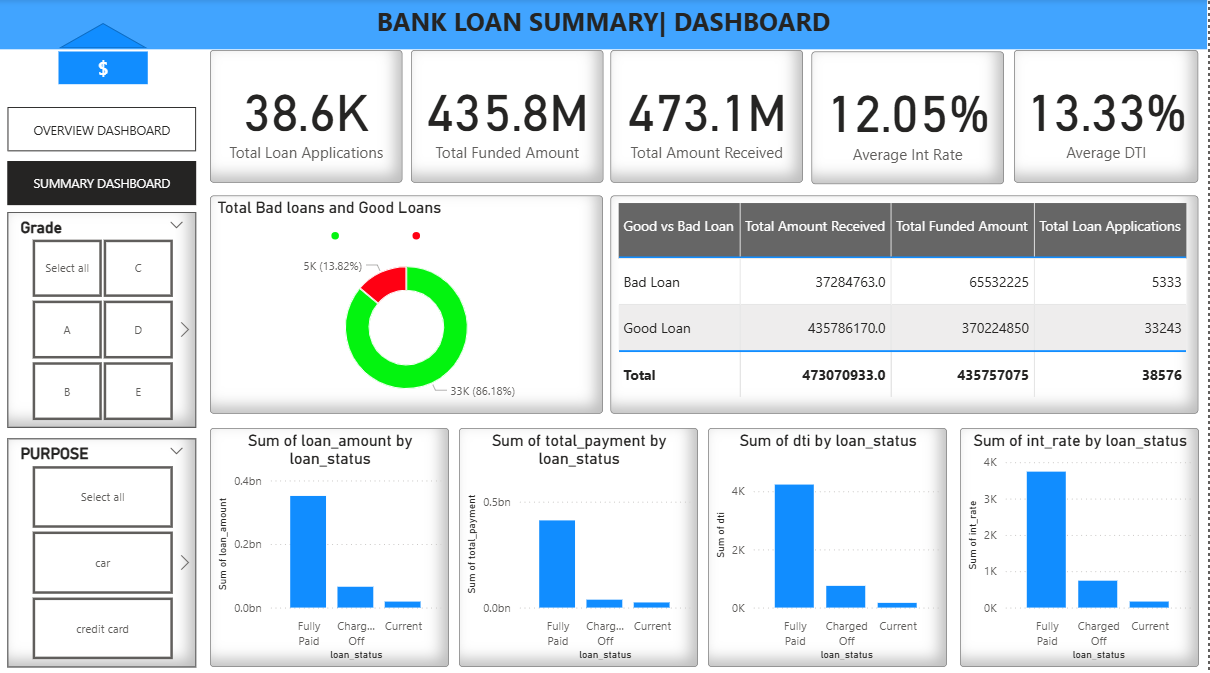

The dashboard page shown, as its layout file describes it:
{"tool":"powerbi","page":{"name":"SUMMARY DASHBOARD","canvas":[1280,720],"ordinal":1},"visuals":[{"type":"card","fields":{"Values":["financial_loan.Total Loan Applications"]},"box":[222.5,53.7,204.2,140.6],"z":0},{"type":"card","fields":{"Values":["financial_loan.Total Funded Amount"]},"box":[435.2,53.7,204.2,140.6],"z":1000},{"type":"card","fields":{"Values":["financial_loan.Total Amount Received"]},"box":[648,53.7,204.2,140.6],"z":2000},{"type":"card","fields":{"Values":["financial_loan.Average Int Rate"]},"box":[860.8,54.9,204.2,140.6],"z":3000},{"type":"card","fields":{"Values":["financial_loan.Average DTI"]},"box":[1076,53.7,195.7,140.6],"z":4000},{"type":"clusteredColumnChart","fields":{"Category":["financial_loan.loan_status"],"Y":["Sum(financial_loan.loan_amount)"]},"box":[223.3,454.8,253.4,253.4],"z":5000},{"type":"clusteredColumnChart","fields":{"Category":["financial_loan.loan_status"],"Y":["Sum(financial_loan.dti)"]},"box":[750.7,454.8,253.4,253.4],"z":6000},{"type":"clusteredColumnChart","fields":{"Category":["financial_loan.loan_status"],"Y":["Sum(financial_loan.int_rate)"]},"box":[1017.8,454.8,253.4,253.4],"z":7000},{"type":"textbox","box":[0,0,1280,53.3],"z":8000},{"type":"pageNavigator","box":[8.2,115.1,200,105.5],"z":9000},{"type":"group","id":"g1","title":"Group 1","box":[61.6,26,94.5,64.4],"z":10000},{"type":"slicer","fields":{"Values":["financial_loan.grade"]},"box":[8.2,226,200,228.8],"z":11000},{"type":"slicer","fields":{"Values":["financial_loan.purpose"]},"box":[8.2,465.8,200,242.5],"z":12000},{"type":"shape","box":[61.6,26,94.5,26.8],"z":13000,"group":"g1"},{"type":"donutChart","title":"Total Bad loans and Good Loans","fields":{"Category":["financial_loan.Good vs Bad Loan"],"Y":["financial_loan.Total Loan Applications"]},"box":[223.3,208.2,416.4,231.5],"z":13000},{"type":"textbox","box":[61.6,55.5,94.5,34.9],"z":14000,"group":"g1"},{"type":"tableEx","fields":{"Values":["financial_loan.Good vs Bad Loan","financial_loan.Total Amount Received","financial_loan.Total Funded Amount","financial_loan.Total Loan Applications"]},"box":[647.9,208.2,623.3,231.5],"z":14000},{"type":"clusteredColumnChart","fields":{"Category":["financial_loan.loan_status"],"Y":["Sum(financial_loan.total_payment)"]},"box":[486.3,454.8,253.4,253.4],"z":15000}]}

Visuals, with their boxes in screenshot pixels (x1, y1, x2, y2), scaled from the page's 1280x720 canvas onto the 1210x673 screenshot:
card - financial_loan.Total Loan Applications: 210, 50, 403, 182
card - financial_loan.Total Funded Amount: 411, 50, 604, 182
card - financial_loan.Total Amount Received: 613, 50, 806, 182
card - financial_loan.Average Int Rate: 814, 51, 1007, 183
card - financial_loan.Average DTI: 1017, 50, 1202, 182
clusteredColumnChart - financial_loan.loan_status x Sum(financial_loan.loan_amount): 211, 425, 451, 662
clusteredColumnChart - financial_loan.loan_status x Sum(financial_loan.dti): 710, 425, 949, 662
clusteredColumnChart - financial_loan.loan_status x Sum(financial_loan.int_rate): 962, 425, 1202, 662
textbox: 0, 0, 1209, 50
pageNavigator: 8, 108, 197, 206
"Group 1" group: 58, 24, 148, 84
slicer - financial_loan.grade: 8, 211, 197, 425
slicer - financial_loan.purpose: 8, 435, 197, 662
shape: 58, 24, 148, 49
"Total Bad loans and Good Loans" donutChart: 211, 195, 605, 411
textbox: 58, 52, 148, 84
tableEx - financial_loan.Good vs Bad Loan x financial_loan.Total Amount Received: 612, 195, 1202, 411
clusteredColumnChart - financial_loan.loan_status x Sum(financial_loan.total_payment): 460, 425, 699, 662
